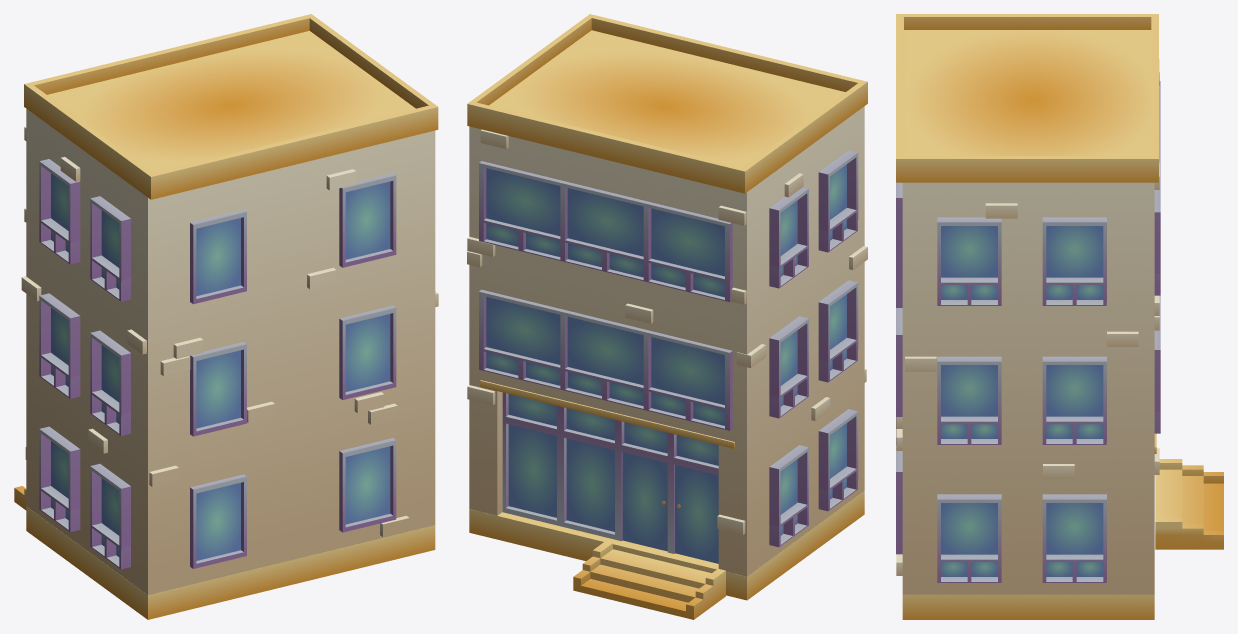
Rendered from SM_3F_R_Half_02.fbx.
3 views of the same model, side by side, from view 1: azimuth 30°, elevation 25°; view 2: azimuth 150°, elevation 25°; view 3: azimuth 270°, elevation 25° (orthographic). The views are drawn at different scales.
Visible parts, largest first — view 1: SM_3F_R_Half_02; view 2: SM_3F_R_Half_02; view 3: SM_3F_R_Half_02.
Part boxes in pixels (x1,y1,x2,y2): SM_3F_R_Half_02: (14,14,438,619); SM_3F_R_Half_02: (467,14,867,619); SM_3F_R_Half_02: (896,14,1223,619).
Bounding box in the file's own units: 7.78 × 6.95 × 10.8.
